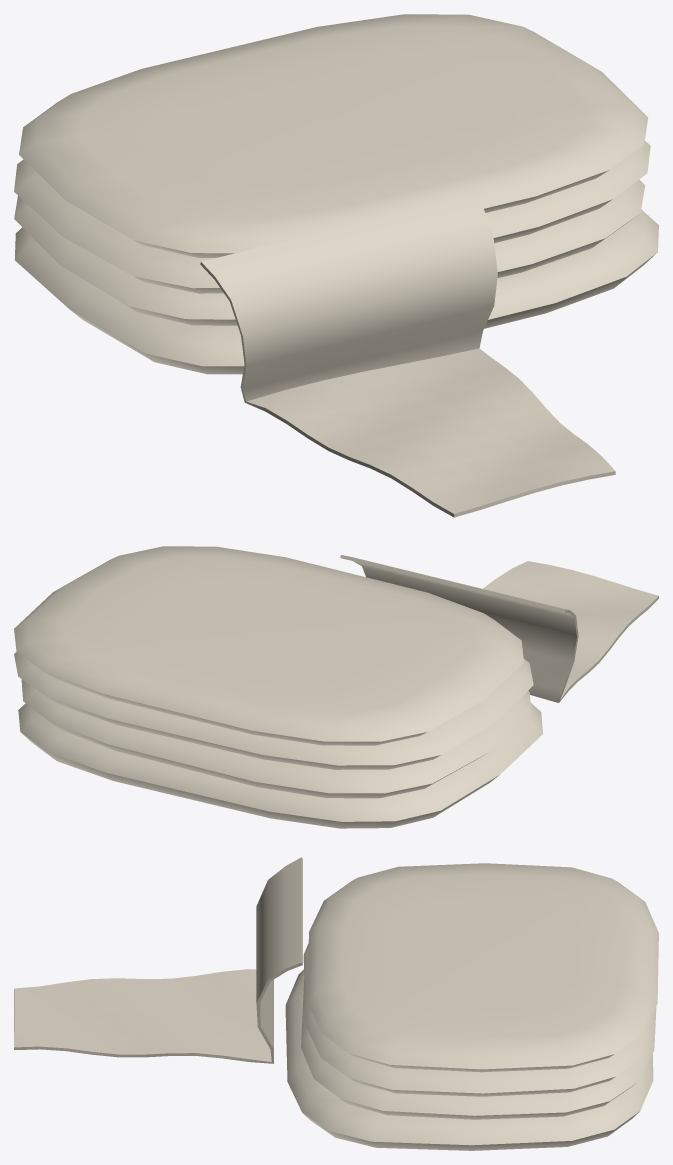
Rendered from Kit_TransDropCloth.fbx.
3 renders of one model, top to bottom at view 1: azimuth 30°, elevation 25°; view 2: azimuth 150°, elevation 25°; view 3: azimuth 270°, elevation 25°, orthographic. The views are drawn at different scales.
Parts seen in each view (by area): view 1: Kit_TransDropCloth_LOD0; view 2: Kit_TransDropCloth_LOD0; view 3: Kit_TransDropCloth_LOD0.
Boxes of the visible parts, x1,y1,x2,y2 form: Kit_TransDropCloth_LOD0: (14, 14, 658, 517); Kit_TransDropCloth_LOD0: (14, 546, 658, 828); Kit_TransDropCloth_LOD0: (14, 857, 658, 1150).
Size of what is drawn, in the model's own units: 0.4723 by 0.1197 by 0.6204.
